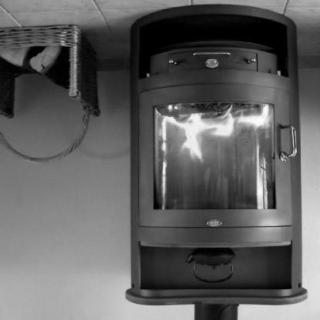Fire: (158, 99, 272, 169)
